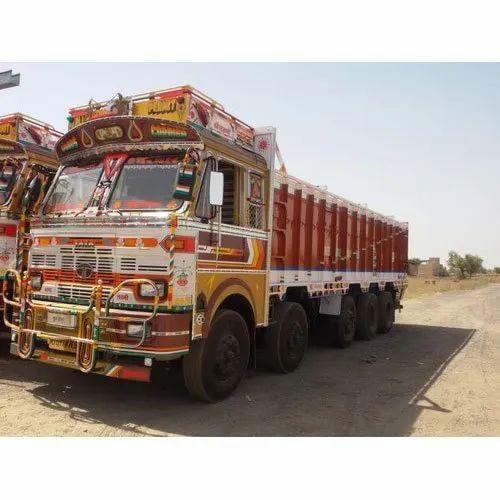truck: (8, 87, 408, 404)
